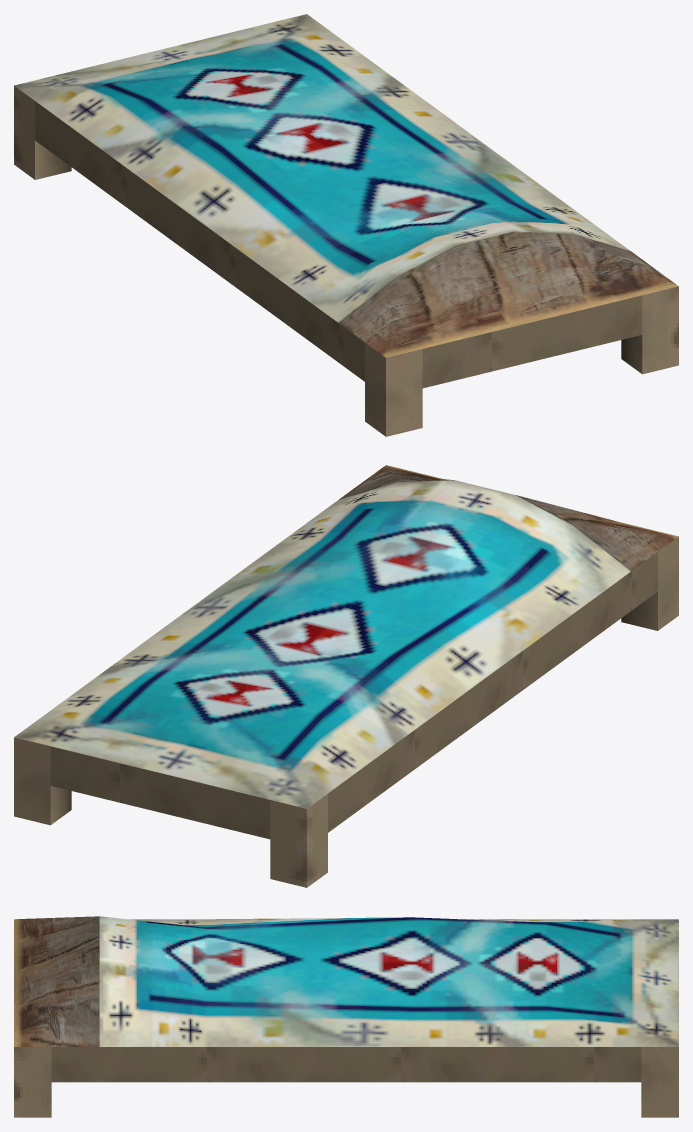
File: M5_Bed03.glb
The picture shows the model from 3 angles, top to bottom: view 1: azimuth 30°, elevation 25°; view 2: azimuth 150°, elevation 25°; view 3: azimuth 270°, elevation 25°; orthographic projection. The views are drawn at different scales.
Parts seen in each view (by area): view 1: M5_BED03; view 2: M5_BED03; view 3: M5_BED03.
Boxes of the visible parts, x1=… form: M5_BED03: x1=14, y1=14, x2=678, y2=436; M5_BED03: x1=14, y1=465, x2=678, y2=887; M5_BED03: x1=14, y1=916, x2=678, y2=1117.
Bounding box in the file's own units: 1 × 0.416 × 2.2.
Materials: 3 (3 with a texture image).
